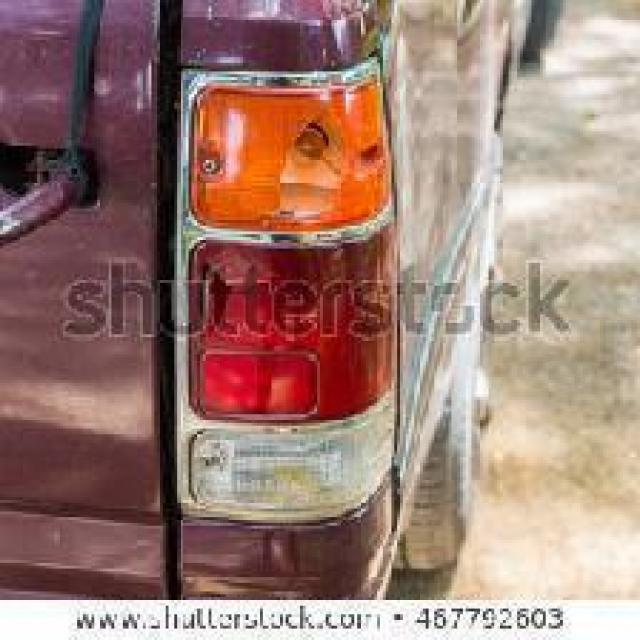damaged: (268, 109, 358, 234)
